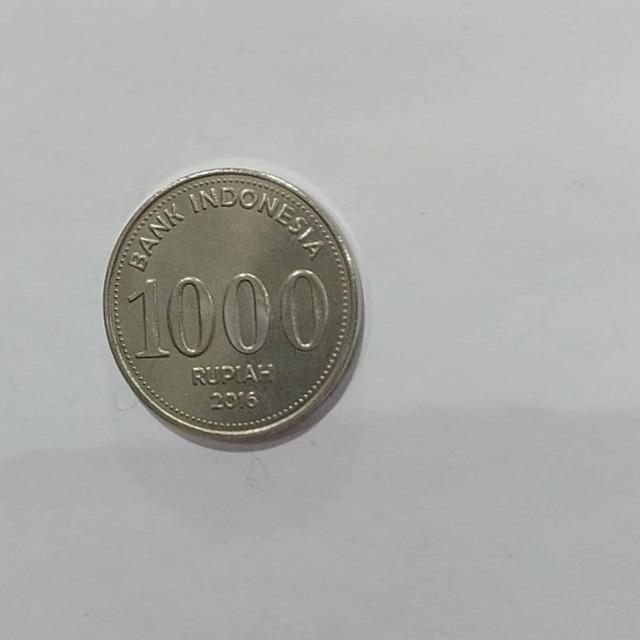Rp100: (100, 165, 365, 451)
